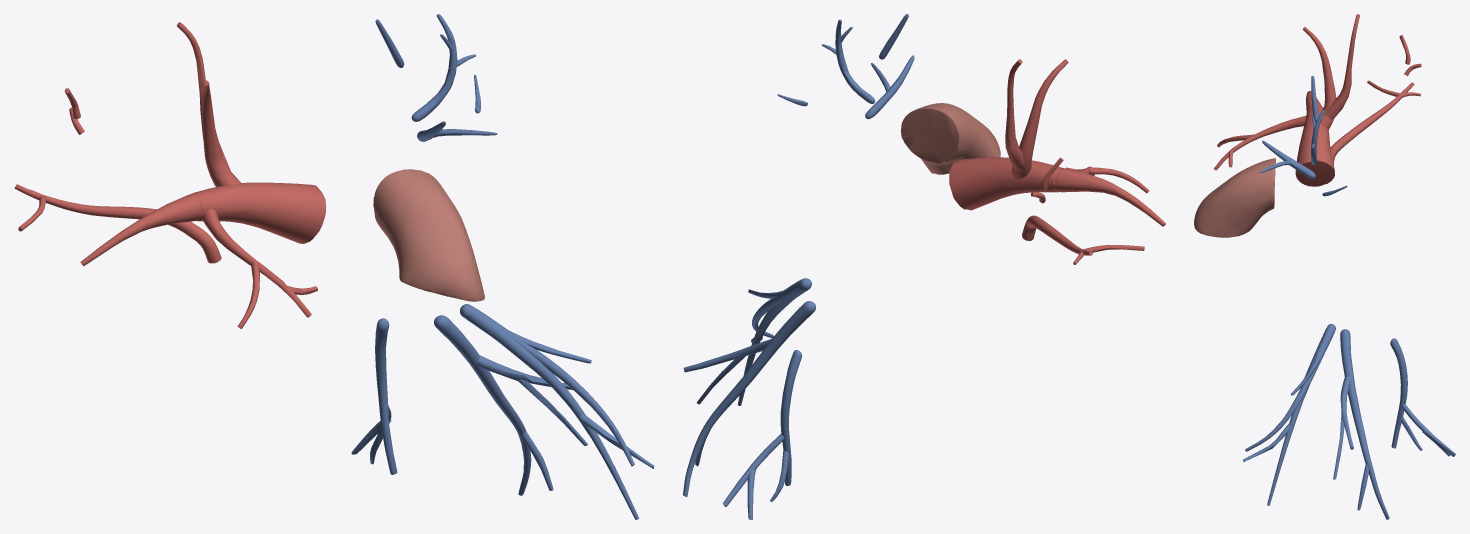
Rendered from thorax-11.glb.
3 renders of one model, left to right at view 1: azimuth 30°, elevation 25°; view 2: azimuth 150°, elevation 25°; view 3: azimuth 270°, elevation 25°, orthographic. The views are drawn at different scales.
Parts seen in each view (by area): view 1: FJ2966, FJ2973, FJ2956, FJ2951, FJ2970, FJ2974, FJ2959, FJ2967, FJ2945, FJ2975, FJ2958, FJ2953; view 2: FJ2966, FJ2973, FJ2951, FJ2974, FJ2967, FJ2945, FJ2978, FJ2970, FJ2956, FJ2958, FJ2959, FJ2953 (+2 smaller); view 3: FJ2966, FJ2973, FJ2951, FJ2959, FJ2967, FJ2978, FJ2970, FJ2945, FJ2956, FJ2975, FJ2953, FJ2961 (+1 smaller).
Part boxes in pixels (x1,y1,x2,y2): FJ2966: (373,169,484,301); FJ2973: (192,182,326,243); FJ2956: (465,306,639,519); FJ2951: (434,315,531,495); FJ2970: (14,184,221,263); FJ2974: (80,193,202,265); FJ2959: (460,304,634,466); FJ2967: (202,80,240,186); FJ2945: (375,318,397,474); FJ2975: (202,209,311,317); FJ2958: (411,14,457,121); FJ2953: (477,355,572,389); FJ2966: (901,103,1000,174); FJ2973: (949,157,1062,210); FJ2951: (683,301,815,496); FJ2974: (1055,168,1165,226); FJ2967: (1011,59,1068,179); FJ2945: (780,350,802,485); FJ2978: (1005,59,1027,171); FJ2970: (1022,215,1092,255); FJ2956: (737,279,807,405); FJ2958: (835,19,875,103); FJ2959: (752,278,811,338); FJ2953: (683,338,771,372); FJ2966: (1194,158,1275,237); FJ2973: (1295,106,1334,186); FJ2951: (1340,329,1389,519); FJ2959: (1245,324,1335,451); FJ2967: (1302,27,1336,129); FJ2978: (1325,14,1359,119); FJ2970: (1330,82,1414,164); FJ2945: (1390,338,1407,448); FJ2956: (1267,327,1334,505); FJ2975: (1213,116,1306,170); FJ2953: (1340,376,1353,449); FJ2961: (1262,140,1315,178).
Bounding box in the file's own units: 0.2182 × 0.2208 × 0.1354.
